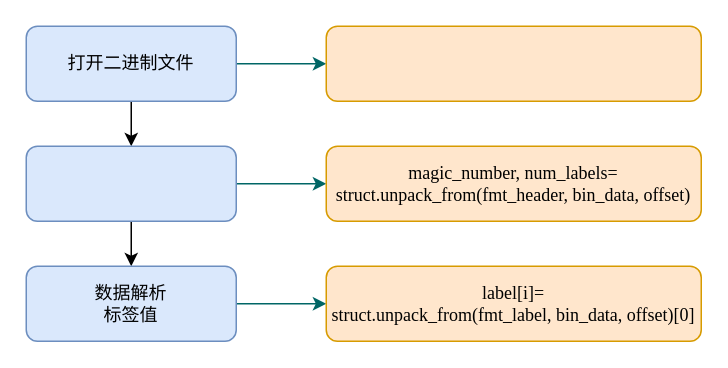
The diagram is 728 pixels wide and 368 high, and some of its shapes have lost their labels. Here are the shapes that lost their labels. From the top down, the centre of each, then its label:
At pixel 513 63: "bin_data=open(filename, 'rb').read()".
At pixel 130 183: "数据解析 魔数、标签数量".
